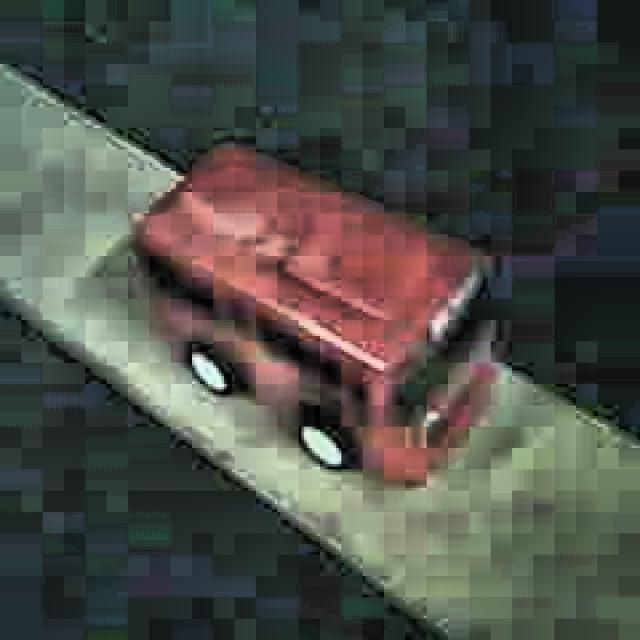bus: (133, 143, 497, 491)
